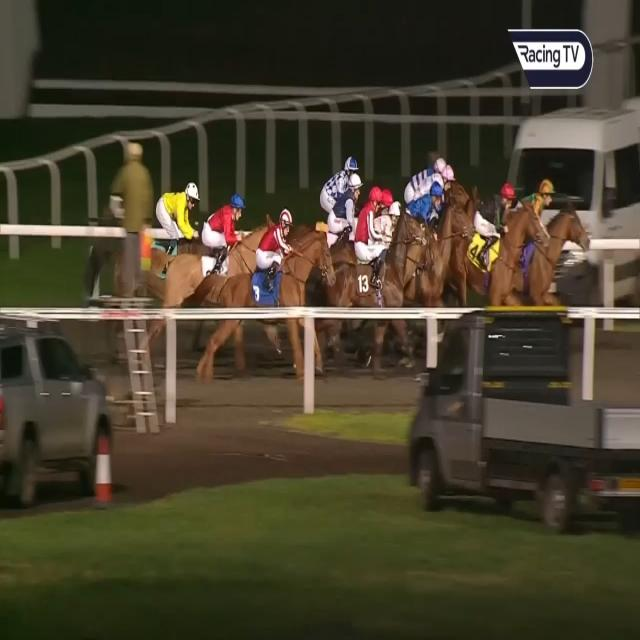horses-racing: (402, 184, 469, 295), (516, 170, 572, 301), (247, 198, 298, 322), (148, 177, 204, 274), (194, 187, 248, 282), (473, 180, 515, 302), (356, 186, 386, 309), (327, 166, 357, 285), (318, 142, 359, 213), (404, 147, 446, 206), (416, 166, 457, 205), (380, 182, 392, 211)
